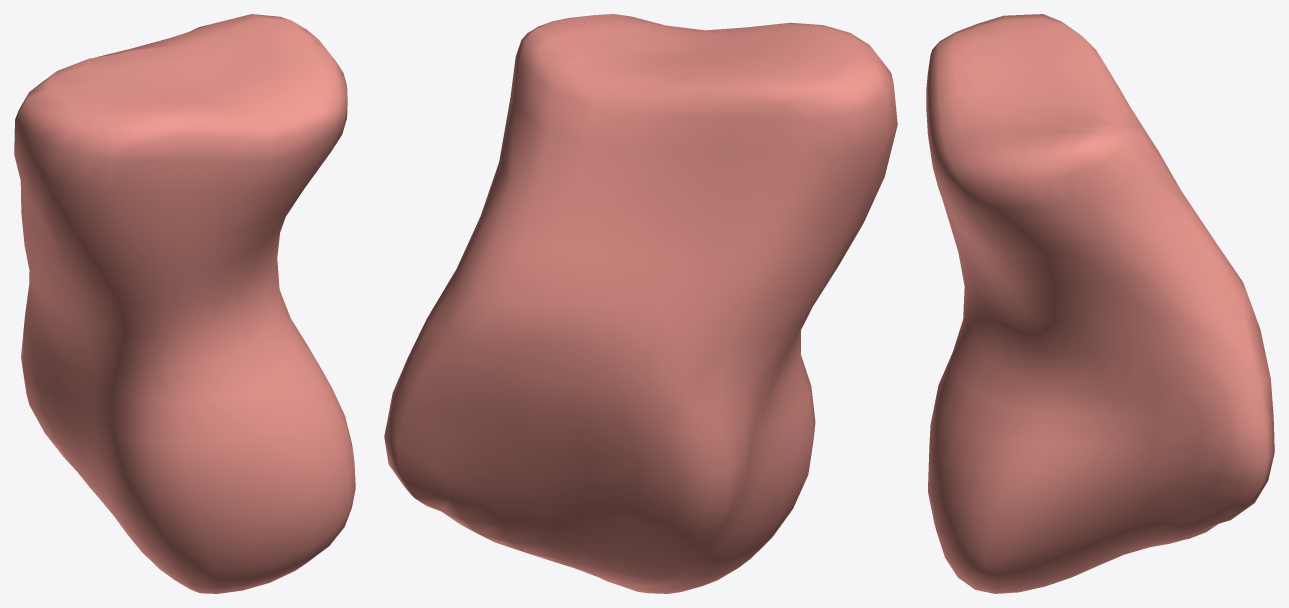
File: mixamo_humanoid_surface_rightFoot.fbx
3 views of the same model, side by side, from view 1: azimuth 30°, elevation 25°; view 2: azimuth 150°, elevation 25°; view 3: azimuth 270°, elevation 25° (orthographic). The views are drawn at different scales.
Parts seen in each view (by area): view 1: surface_RightFoot; view 2: surface_RightFoot; view 3: surface_RightFoot.
Part boxes in pixels (x1,y1,x2,y2): surface_RightFoot: (14, 14, 355, 593); surface_RightFoot: (384, 14, 897, 593); surface_RightFoot: (926, 14, 1274, 593).
Size of the model in its own units: 11.2 by 16.34 by 10.51.
